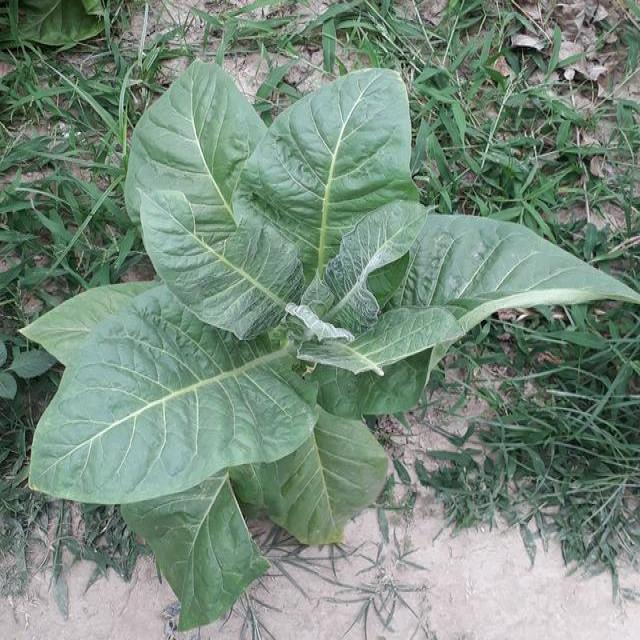crop: (57, 50, 620, 598)
